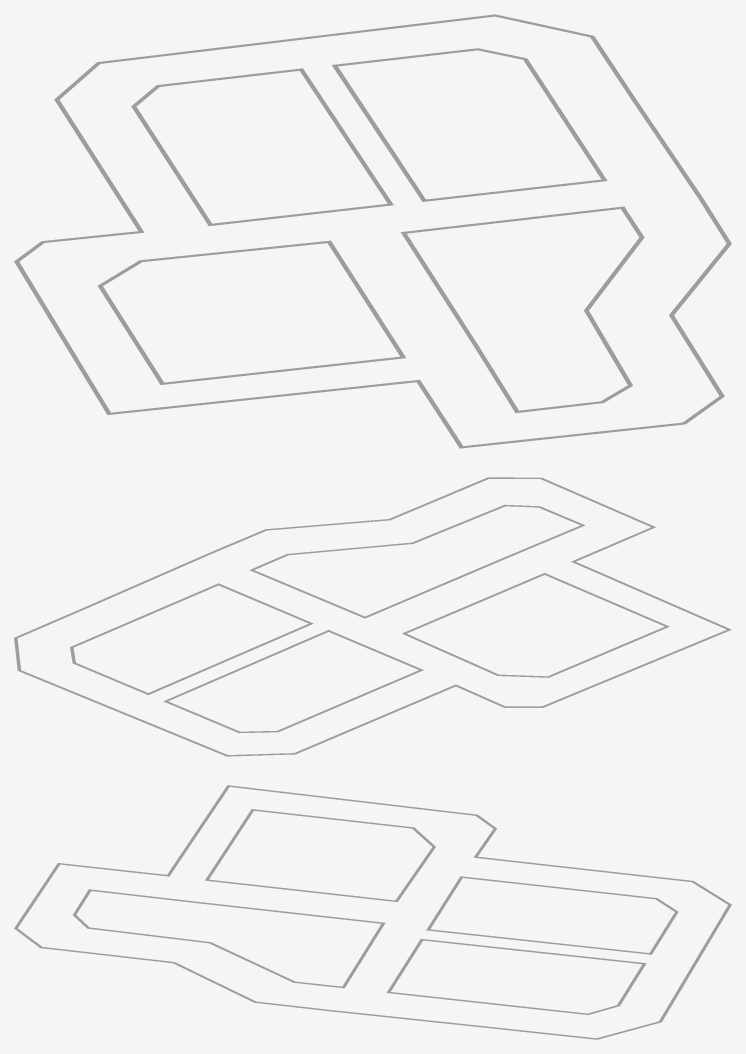
The model's file is kd_connection_world-inner_surface_0_10.glb.
3 renders of one model, top to bottom at view 1: azimuth 30°, elevation 25°; view 2: azimuth 150°, elevation 25°; view 3: azimuth 270°, elevation 25°, orthographic. The views are drawn at different scales.
Parts seen in each view (by area): view 1: kd_connection_world-inner_surface_0_10; view 2: kd_connection_world-inner_surface_0_10; view 3: kd_connection_world-inner_surface_0_10.
Boxes of the visible parts, <box> form: kd_connection_world-inner_surface_0_10: <box>14,14,731,448</box>; kd_connection_world-inner_surface_0_10: <box>14,477,731,756</box>; kd_connection_world-inner_surface_0_10: <box>14,785,731,1039</box>.
Bounding box in the file's own units: 73.9 × 7.63e-06 × 88.02.
1 material, 1 textured.
